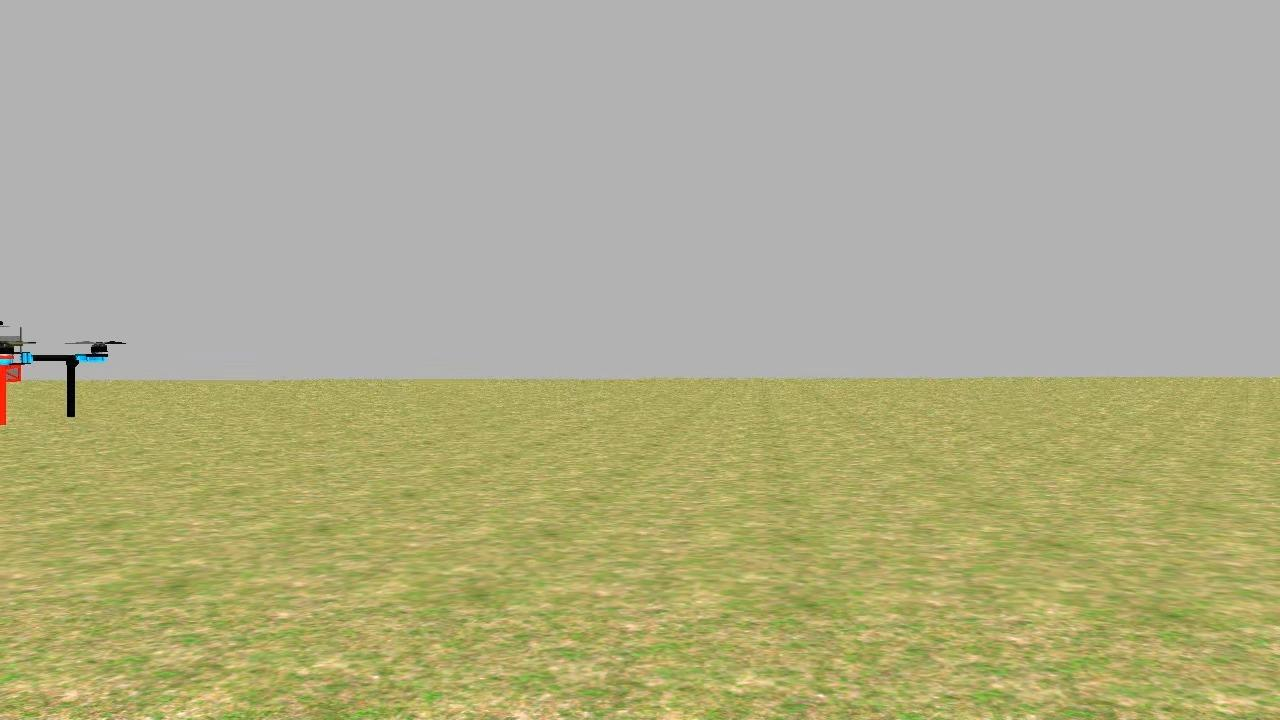UAV: (0, 311, 121, 430)
